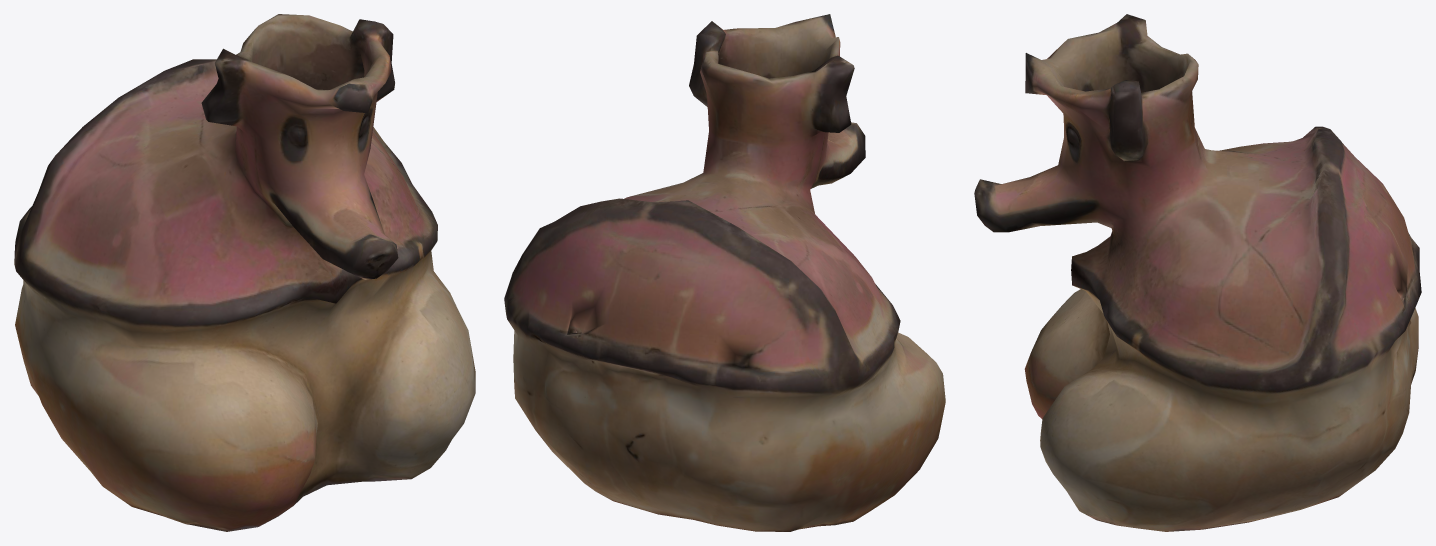
File: Recipientes_zoomorfos.glb
3 views of the same model, side by side, from view 1: azimuth 30°, elevation 25°; view 2: azimuth 150°, elevation 25°; view 3: azimuth 270°, elevation 25° (orthographic). The views are drawn at different scales.
Parts seen in each view (by area): view 1: Mesh1.0; view 2: Mesh1.0; view 3: Mesh1.0.
Part boxes in pixels (x1=…): Mesh1.0: x1=14, y1=14, x2=475, y2=531; Mesh1.0: x1=504, y1=14, x2=945, y2=531; Mesh1.0: x1=974, y1=14, x2=1421, y2=531.
Bounding box in the file's own units: 0.00452 × 0.005 × 0.00477.
Materials: 1 (1 with a texture image).
